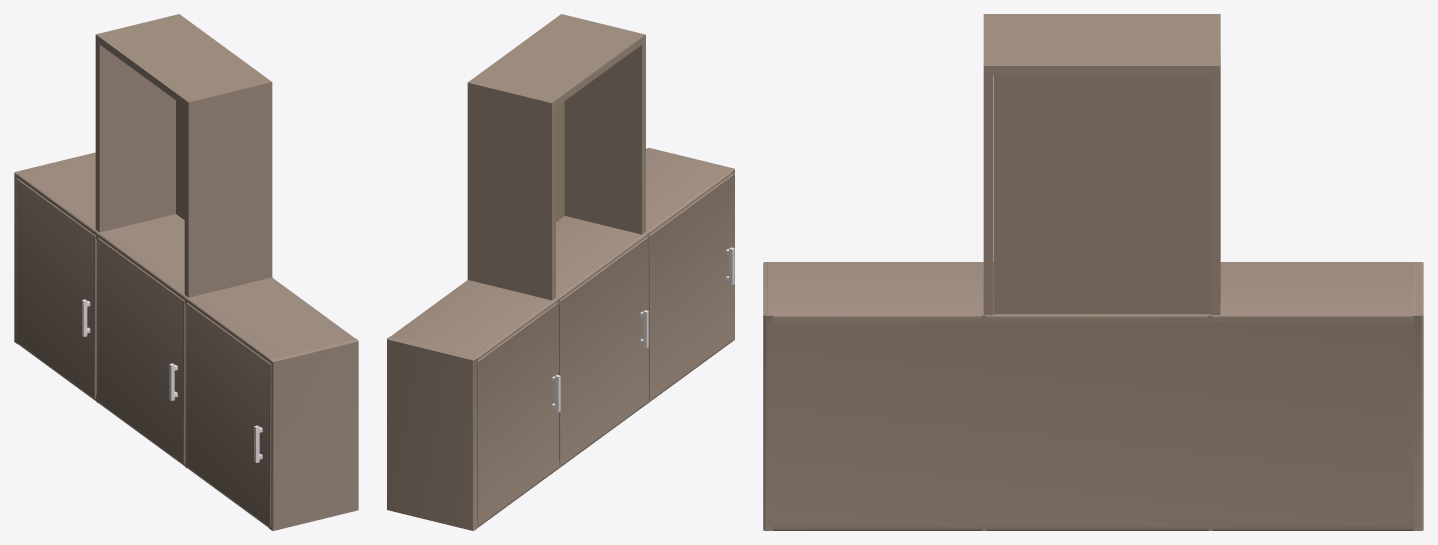
File: lemari T.fbx
3 views of the same model, side by side, from view 1: azimuth 30°, elevation 25°; view 2: azimuth 150°, elevation 25°; view 3: azimuth 270°, elevation 25° (orthographic). The views are drawn at different scales.
Parts seen in each view (by area): view 1: pCube36.006, pCube28.001; view 2: pCube36.006, pCube28.001; view 3: pCube36.006, pCube28.001.
Part boxes in pixels (x1,y1,x2,y2): pCube36.006: [14, 152, 358, 530]; pCube28.001: [95, 14, 272, 297]; pCube36.006: [387, 148, 734, 530]; pCube28.001: [467, 14, 645, 300]; pCube36.006: [763, 262, 1423, 530]; pCube28.001: [983, 14, 1220, 314].
Size of the model in its own units: 44.33 by 164 by 211.
